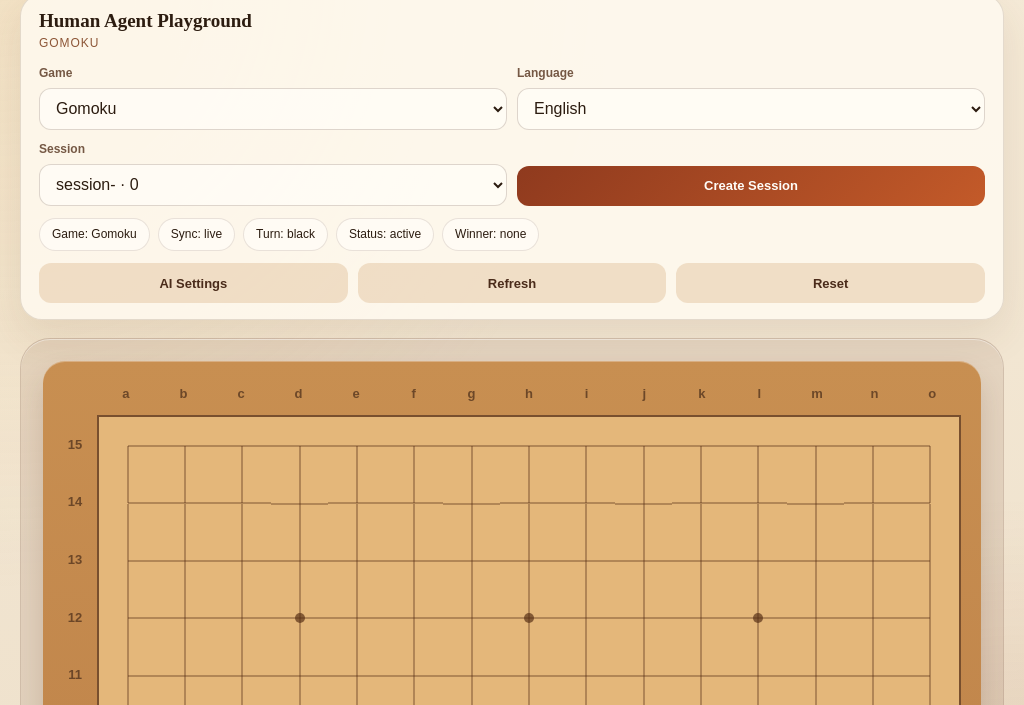
Test: App › switches the interface to Chinese from the header language selector
Expected: the text "Game: Gomoku" is shown, [39,218,150,252]
Select "中文" in the dropdown labelled "Language". click: (751, 109)
box: [517,88,985,130]
(page scrolled)
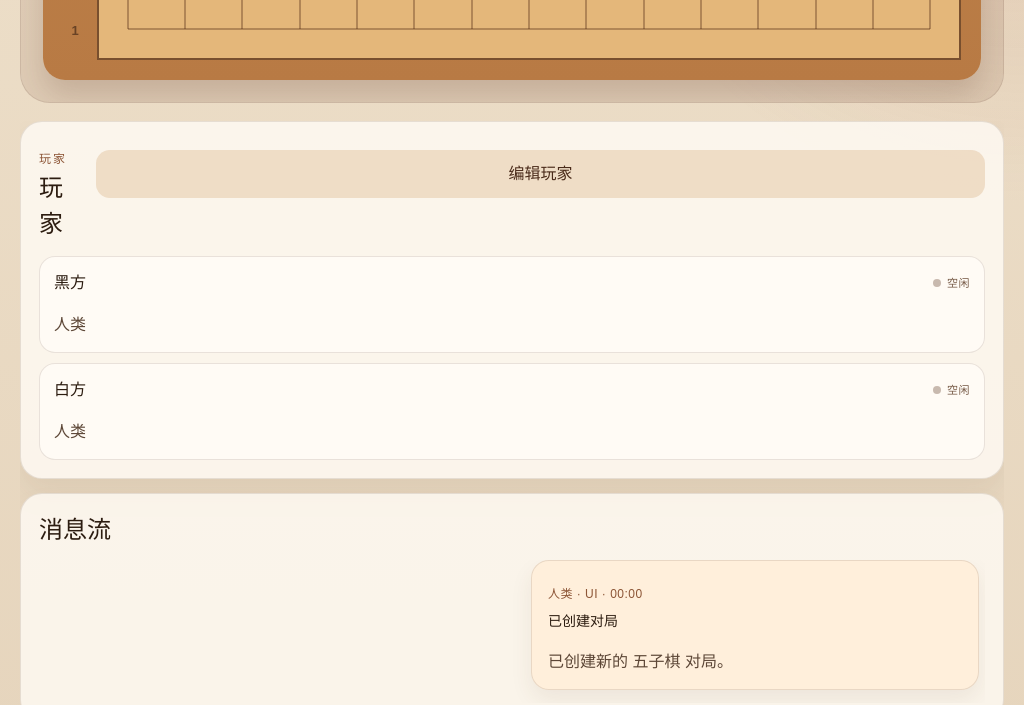
Result: the heading "消息流" is shown at [39,517,111,543]
Result: the text "已创建新的 五子棋 对局。" is shown at [548,653,733,670]
